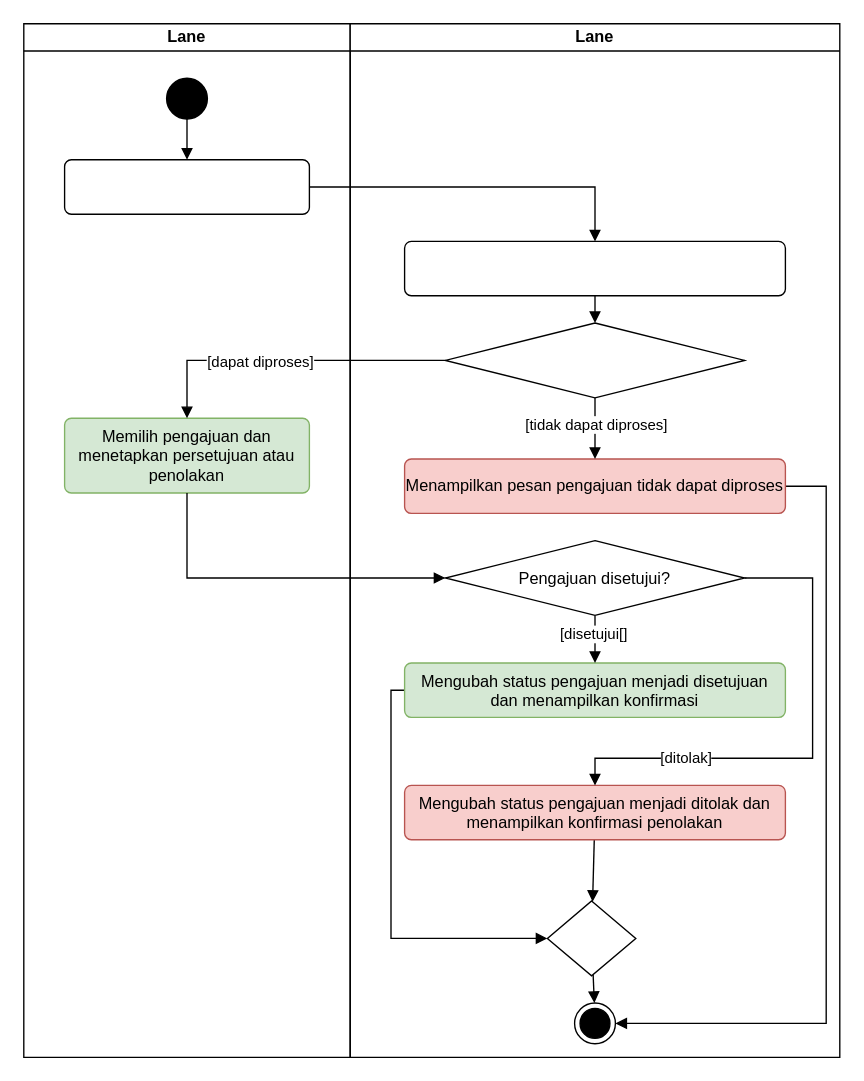
Image size: 864x1081. Some labels were removed from this diagram. The box of each missing label's shape, as (x1, y1, x2, y2) in pixels:
Membuka daftar pengajuan yang berstatus menunggu keputusan: (63, 158, 309, 214)
Menampilkan daftar pengajuan yang berstatus Menunggu keputusan: (403, 240, 785, 296)
Pengajuan dapat diproses?: (444, 322, 745, 398)
